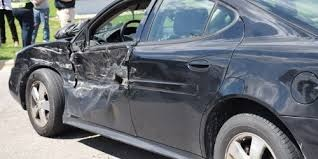Dent: (62, 49, 137, 102), (220, 71, 307, 114)
Scratch: (27, 44, 68, 69)
